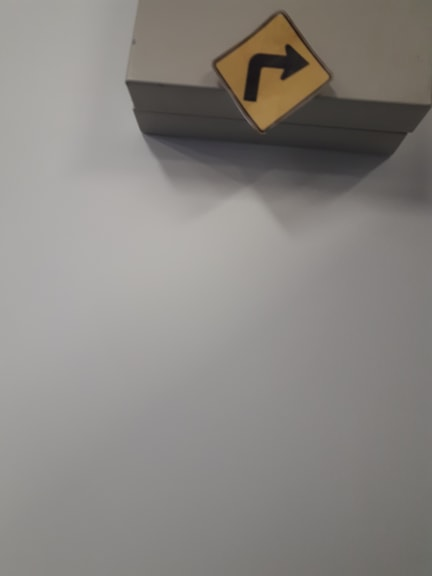right: (228, 3, 311, 145), (276, 27, 349, 103), (246, 43, 323, 79)
